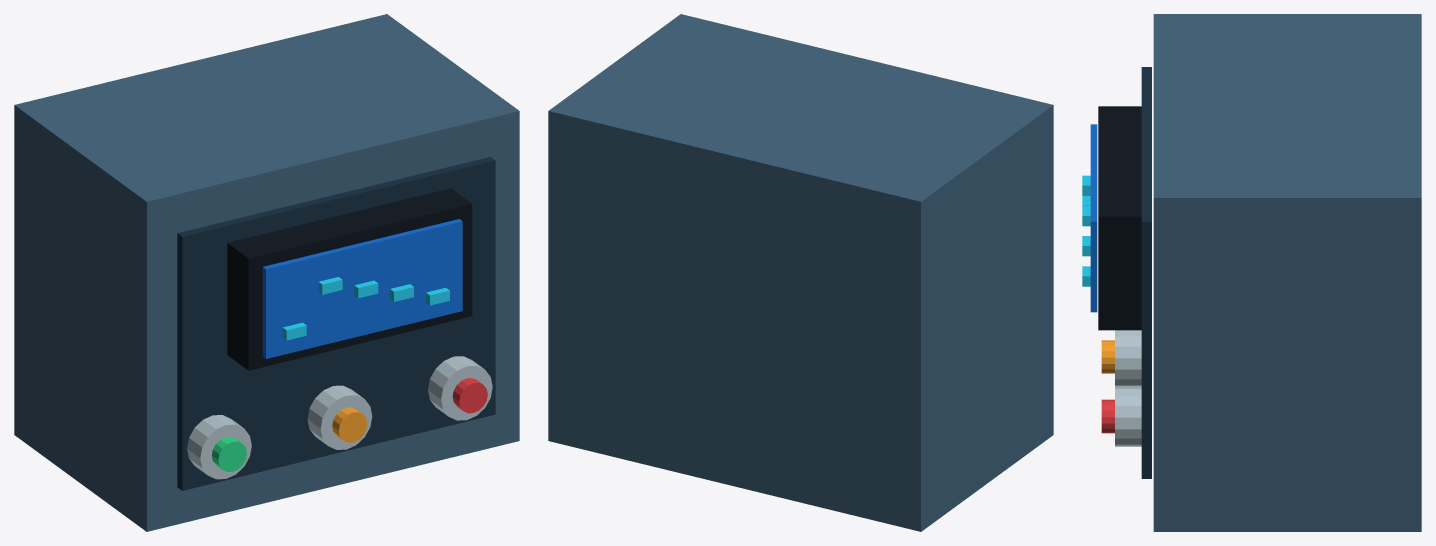
The model's file is 39_L69_ColdChainSafetyPLC.fbx.
The picture shows the model from 3 angles, left to right: view 1: azimuth 30°, elevation 25°; view 2: azimuth 150°, elevation 25°; view 3: azimuth 270°, elevation 25°; orthographic projection.
Parts seen in each view (by area): view 1: ColdChainSafetyPLC; view 2: ColdChainSafetyPLC; view 3: ColdChainSafetyPLC.
Part boxes in pixels (x1,y1,x2,y2): ColdChainSafetyPLC: (14,14,519,531); ColdChainSafetyPLC: (548,14,1053,531); ColdChainSafetyPLC: (1082,14,1421,531).
Size of the model in its own units: 65 by 55 by 50.6.
